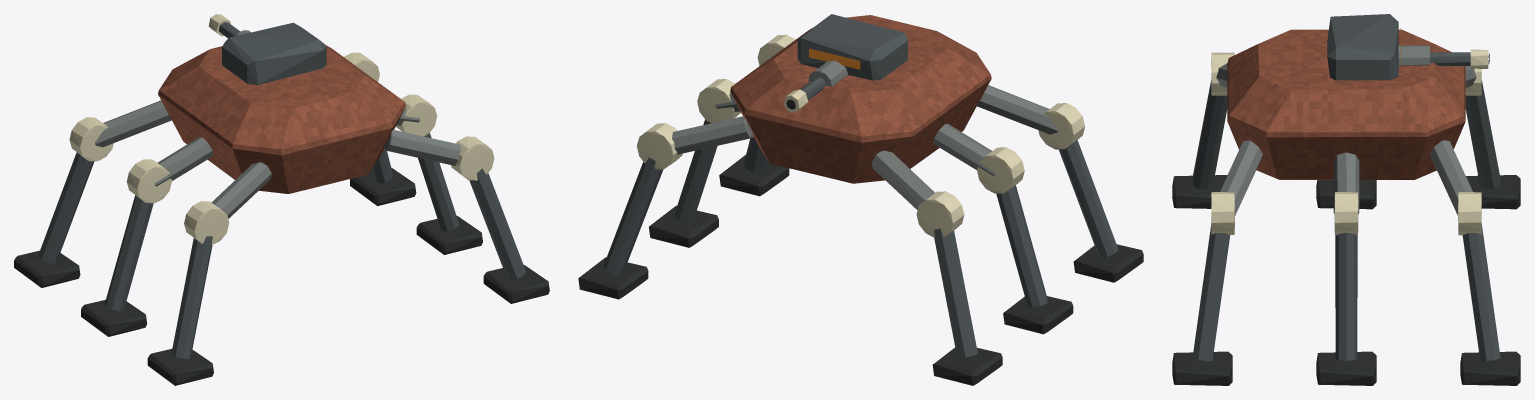
3 views of the same model, side by side, from view 1: azimuth 30°, elevation 25°; view 2: azimuth 150°, elevation 25°; view 3: azimuth 270°, elevation 25° (orthographic). The views are drawn at different scales.
Visible parts, largest first — view 1: ST2-E04_Mesh, Knee_Mesh, Knee.001_Mesh, Knee.003_Mesh, Knee.002_Mesh, TurretYaw_Mesh, Knee.004_Mesh, Knee.005_Mesh, Hip_R0_Mesh, Hip_L2_Mesh, Hip_L0_Mesh, Hip_L1_Mesh (+1 smaller); view 2: ST2-E04_Mesh, Knee.002_Mesh, Knee.001_Mesh, Knee.005_Mesh, Knee_Mesh, TurretYaw_Mesh, Knee.004_Mesh, Knee.003_Mesh, Hip_R2_Mesh, Hip_L0_Mesh, Hip_L2_Mesh, Hip_L1_Mesh (+1 smaller); view 3: ST2-E04_Mesh, Knee.004_Mesh, Knee.005_Mesh, Knee.003_Mesh, TurretYaw_Mesh, Knee_Mesh, Knee.002_Mesh, BarrelRecoil_Mesh, Hip_R0_Mesh, Hip_R2_Mesh, Hip_R1_Mesh, Knee.001_Mesh.
Boxes of the visible parts, <box> form: ST2-E04_Mesh: <box>158,45,405,193</box>; Knee_Mesh: <box>147,201,229,385</box>; Knee.001_Mesh: <box>81,159,171,336</box>; Knee.003_Mesh: <box>451,136,549,303</box>; Knee.002_Mesh: <box>14,117,113,287</box>; TurretYaw_Mesh: <box>222,22,326,84</box>; Knee.004_Mesh: <box>396,94,482,254</box>; Knee.005_Mesh: <box>344,52,416,205</box>; Hip_R0_Mesh: <box>384,129,460,165</box>; Hip_L2_Mesh: <box>95,100,171,147</box>; Hip_L0_Mesh: <box>211,162,271,218</box>; Hip_L1_Mesh: <box>155,137,213,186</box>; ST2-E04_Mesh: <box>730,15,991,183</box>; Knee.002_Mesh: <box>916,191,1002,385</box>; Knee.001_Mesh: <box>977,147,1073,334</box>; Knee.005_Mesh: <box>578,123,682,299</box>; Knee_Mesh: <box>1038,103,1143,282</box>; TurretYaw_Mesh: <box>797,14,907,80</box>; Knee.004_Mesh: <box>649,79,740,247</box>; Knee.003_Mesh: <box>719,34,795,196</box>; Hip_R2_Mesh: <box>672,116,753,154</box>; Hip_L0_Mesh: <box>977,85,1058,134</box>; Hip_L2_Mesh: <box>871,150,934,209</box>; Hip_L1_Mesh: <box>933,123,994,175</box>; ST2-E04_Mesh: <box>1227,29,1465,179</box>; Knee.004_Mesh: <box>1316,192,1376,385</box>; Knee.005_Mesh: <box>1458,192,1520,385</box>; Knee.003_Mesh: <box>1172,192,1234,385</box>; TurretYaw_Mesh: <box>1327,14,1400,80</box>; Knee_Mesh: <box>1172,52,1234,208</box>; Knee.002_Mesh: <box>1465,68,1520,209</box>; BarrelRecoil_Mesh: <box>1398,45,1489,68</box>; Hip_R0_Mesh: <box>1220,140,1262,215</box>; Hip_R2_Mesh: <box>1430,140,1472,215</box>; Hip_R1_Mesh: <box>1333,152,1359,213</box>; Knee.001_Mesh: <box>1316,180,1376,209</box>.
Size of the model in its own units: 4.28 by 2.58 by 3.17.
